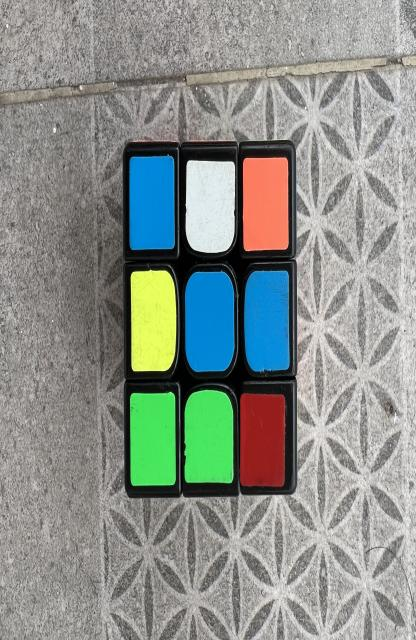Blue: (185, 272, 235, 372), (245, 270, 289, 372), (129, 155, 175, 250)
Green: (184, 390, 233, 483), (130, 392, 176, 487)
Orange: (243, 157, 288, 252)
Red: (240, 393, 285, 487)
White: (185, 160, 236, 253)
Yellow: (131, 270, 176, 372)
